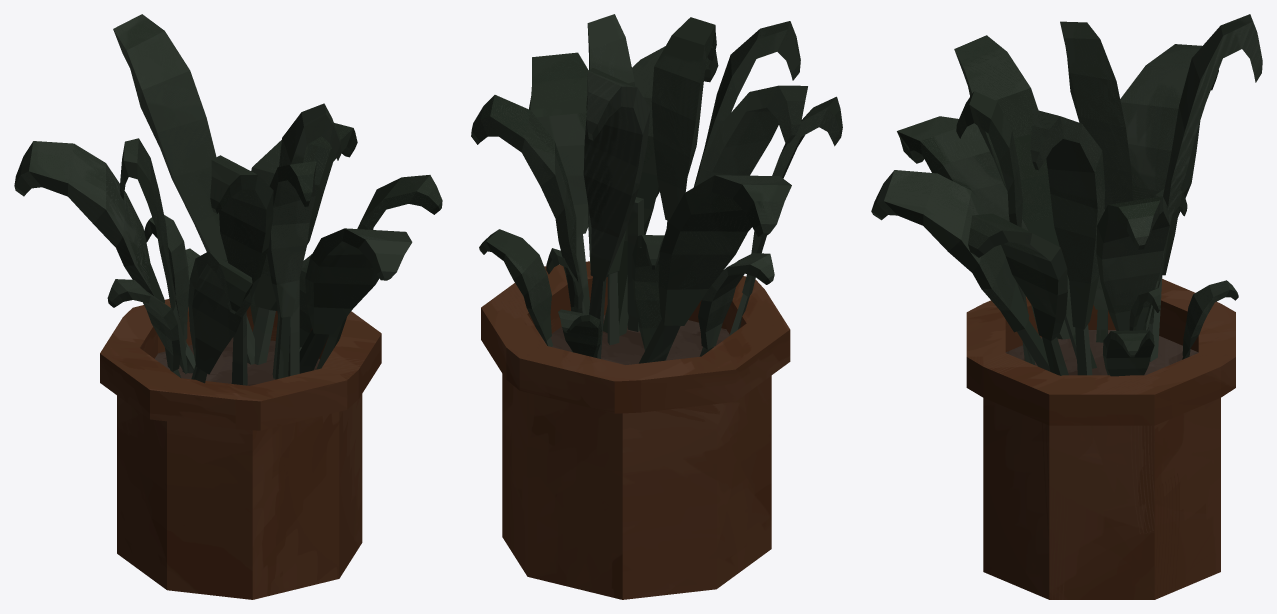
The model's file is M-Plant2.fbx.
The picture shows the model from 3 angles, left to right: view 1: azimuth 30°, elevation 25°; view 2: azimuth 150°, elevation 25°; view 3: azimuth 270°, elevation 25°; orthographic projection. The views are drawn at different scales.
Visible parts, largest first — view 1: Cube.001, Cube; view 2: Cube.001, Cube; view 3: Cube.001, Cube.
Boxes of the visible parts, x1,y1,x2,y2 form: Cube.001: [14, 14, 442, 385]; Cube: [100, 299, 381, 599]; Cube.001: [471, 14, 842, 363]; Cube: [481, 261, 790, 599]; Cube.001: [871, 14, 1262, 376]; Cube: [966, 279, 1235, 599].
Size of the model in its own units: 32.84 by 32.97 by 47.78.
Materials: 2 (2 with a texture image).
